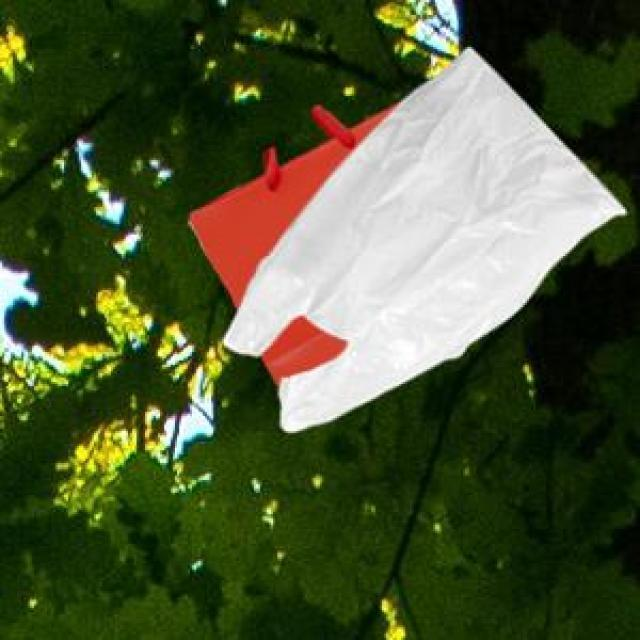paper: (186, 100, 394, 384)
